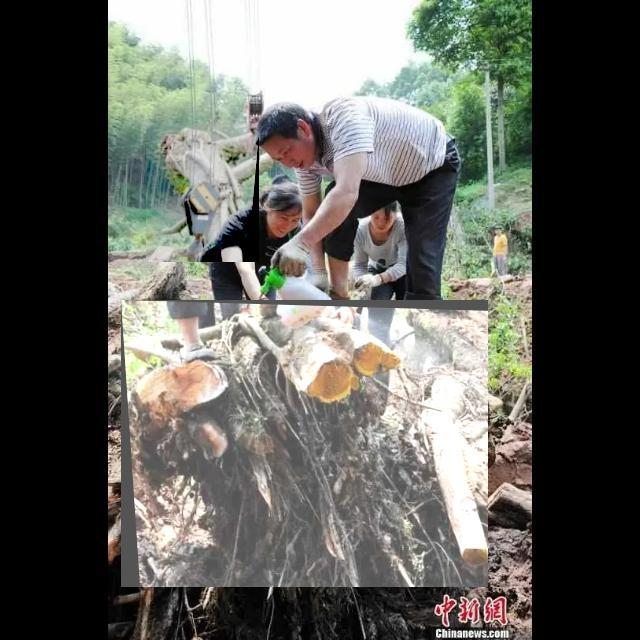fallen_tree: (121, 300, 489, 588), (146, 123, 260, 263)
